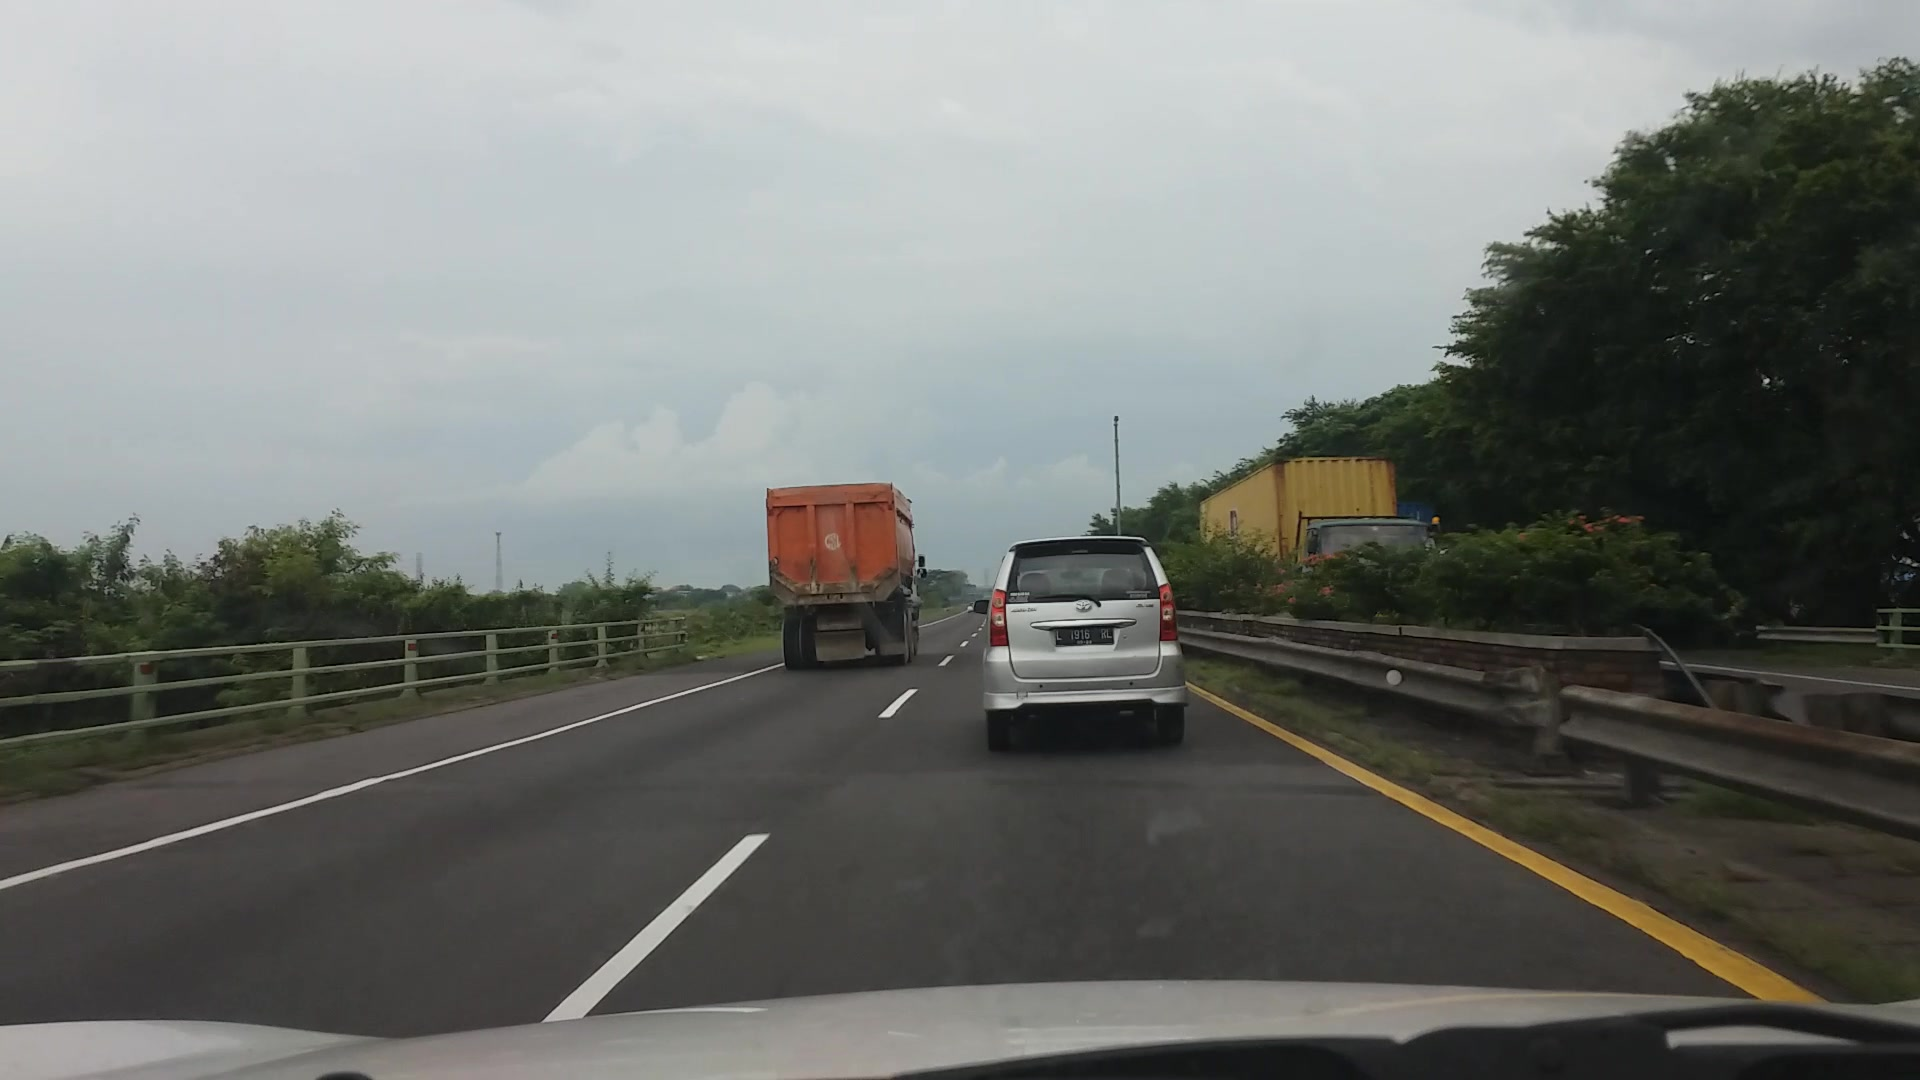plate_positive: (1054, 626, 1114, 646)
